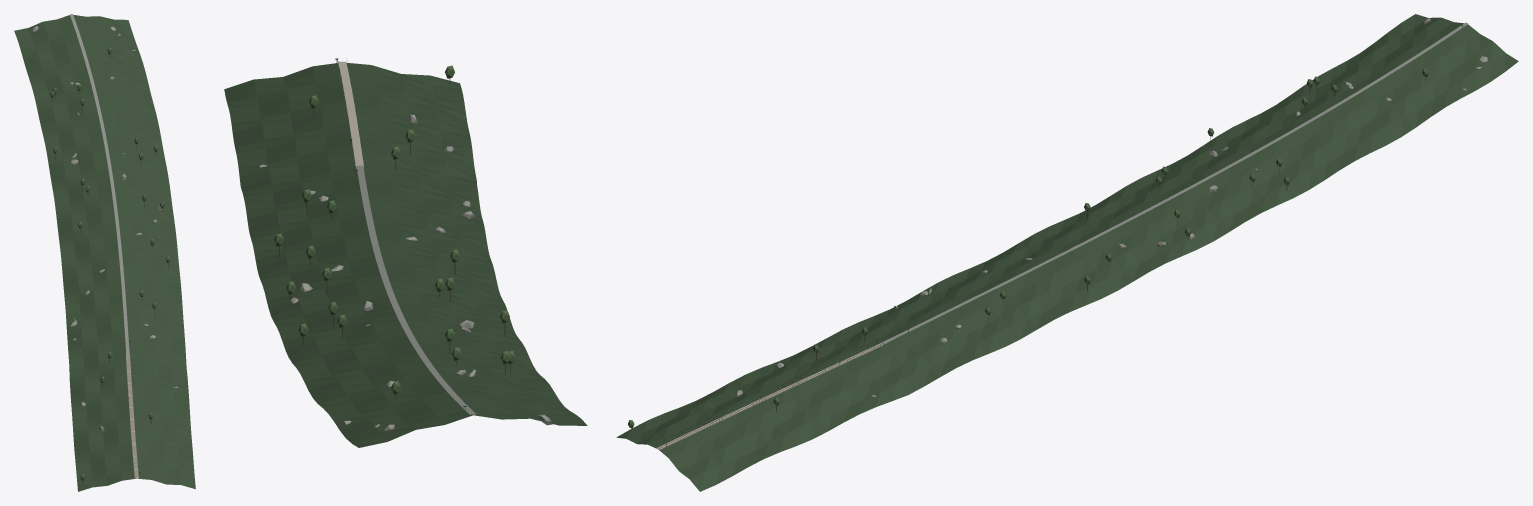
The model's file is summit-approach-lod2.glb.
3 views of the same model, side by side, from view 1: azimuth 30°, elevation 25°; view 2: azimuth 210°, elevation 25°; view 3: azimuth 330°, elevation 25° (orthographic). The views are drawn at different scales.
Parts seen in each view (by area): view 1: forest, ridge, leaf, stairs, rock; view 2: forest, leaf, ridge, rock, stairs; view 3: forest, ridge, leaf, stairs.
Part boxes in pixels (box(x1,y1,x2,y2)): forest: box(14, 15, 195, 491); ridge: box(69, 14, 129, 357); leaf: box(50, 47, 170, 480); stairs: box(126, 357, 138, 478); rock: box(32, 26, 178, 431); forest: box(224, 63, 587, 447); leaf: box(274, 65, 515, 394); ridge: box(355, 165, 476, 414); rock: box(259, 114, 552, 430); stairs: box(338, 61, 363, 165); forest: box(616, 14, 1518, 491); ridge: box(881, 22, 1468, 344); leaf: box(628, 68, 1428, 428); stairs: box(657, 343, 882, 449).
Size of the model in its own units: 227 by 91.7 by 386.
